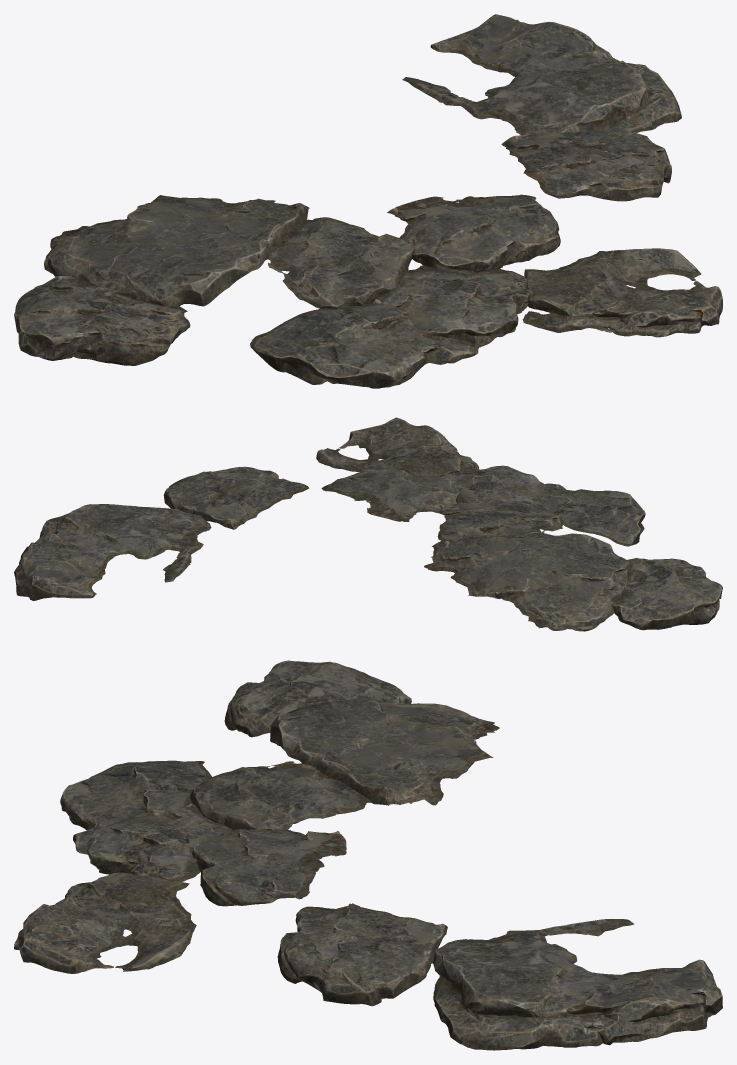
File: sar_rocks_001.gltf
3 views of the same model, one above another, from view 1: azimuth 30°, elevation 25°; view 2: azimuth 150°, elevation 25°; view 3: azimuth 270°, elevation 25° (orthographic). The views are drawn at different scales.
Visible parts, largest first — view 1: sar_rocks_001; view 2: sar_rocks_001; view 3: sar_rocks_001.
Part boxes in pixels (x1=…): sar_rocks_001: x1=14, y1=14, x2=722, y2=388; sar_rocks_001: x1=14, y1=417, x2=722, y2=631; sar_rocks_001: x1=14, y1=660, x2=722, y2=1050.
Bounding box in the file's own units: 9.65 × 0.7086 × 7.79.
Materials: 1 (1 with a texture image).
